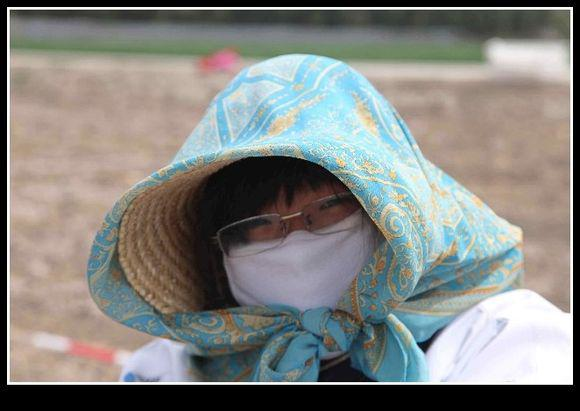OK: (225, 177, 380, 326)
